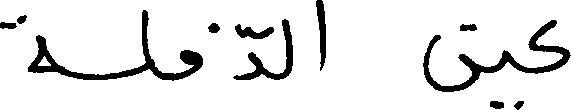X: (424, 19, 475, 96), (0, 10, 56, 77), (529, 15, 570, 78), (179, 18, 217, 83), (235, 19, 270, 84), (492, 45, 522, 109), (140, 5, 152, 77), (314, 0, 325, 75), (282, 14, 292, 83)
